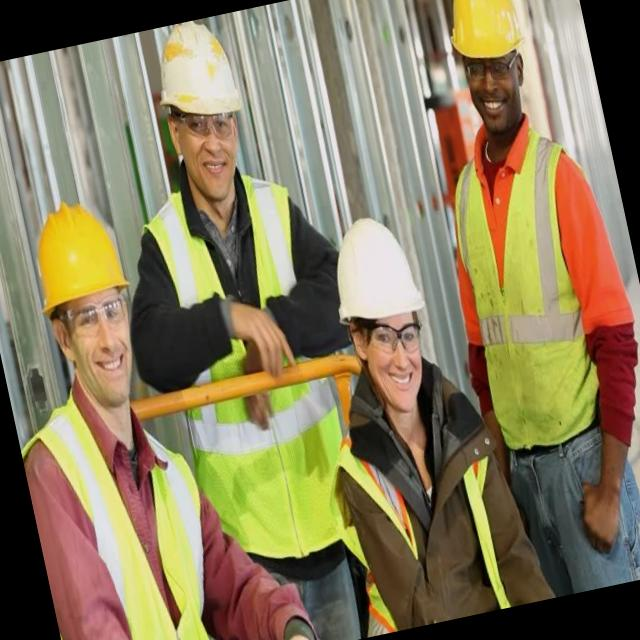goggles: (169, 98, 244, 158), (350, 314, 433, 367), (60, 292, 130, 340)
helmet: (15, 178, 138, 324), (315, 191, 430, 337), (138, 11, 256, 143), (428, 0, 540, 81)
no-goggles: (459, 54, 525, 92)
vest: (134, 166, 362, 582), (438, 116, 616, 455), (47, 407, 232, 640), (332, 410, 522, 636)
